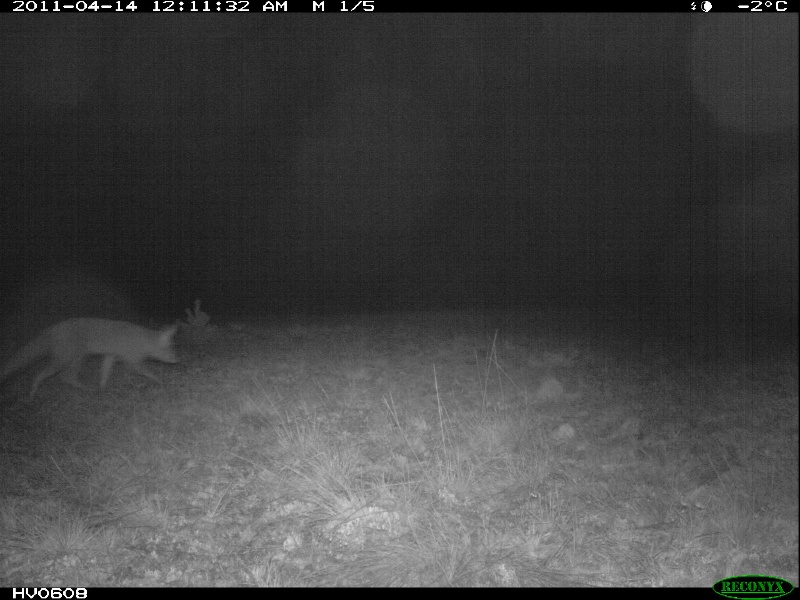fox: (4, 316, 185, 401)
